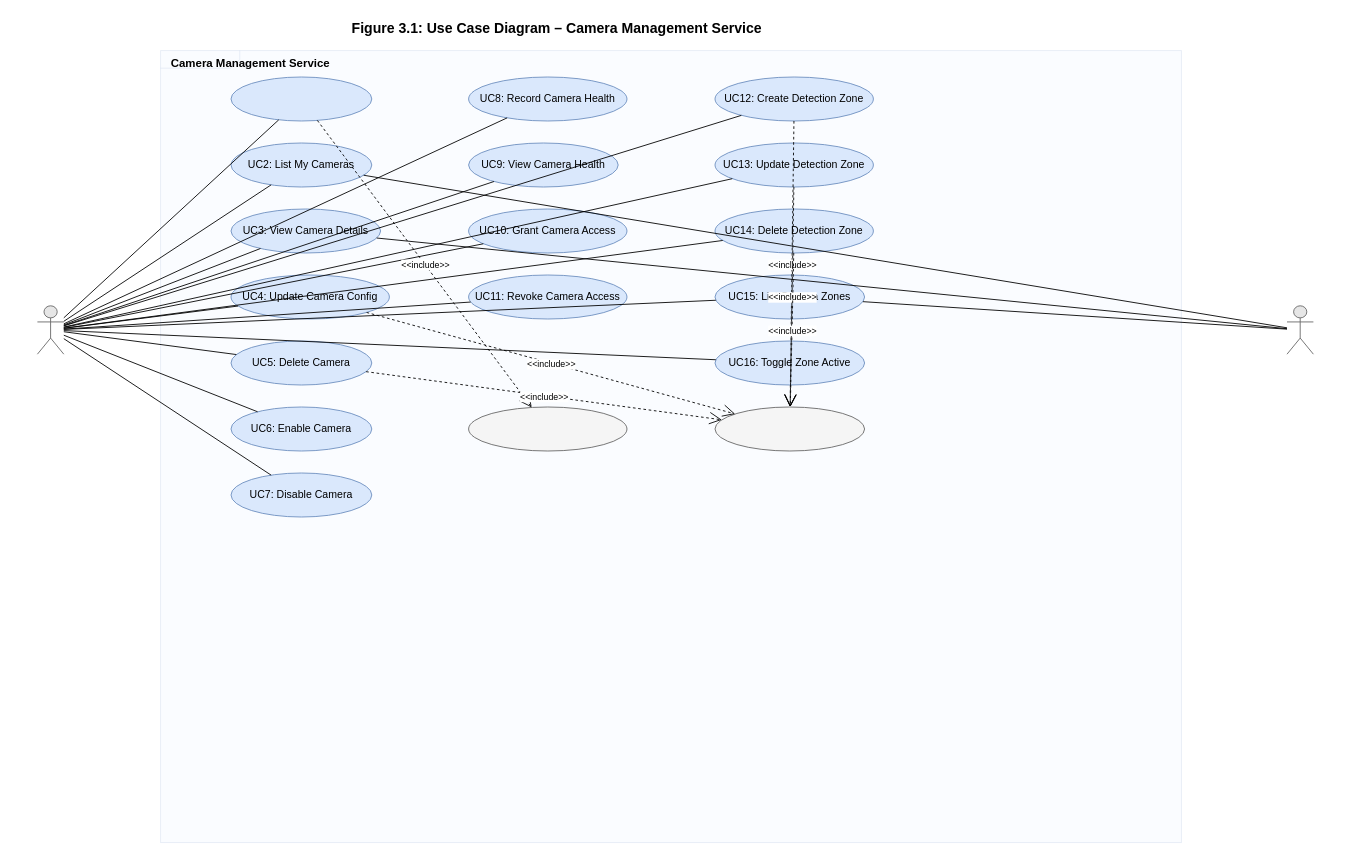
This 1353x858 diagram has some shape labels left out. The shapes that lost their labels are listed below. From the top down, each one's centre as x and y in pixels, then its label:
At pixel 301 98: "UC1: Register Camera".
At pixel 50 329: "Camera Owner".
At pixel 1299 329: "Shared Member".
At pixel 547 428: "UC17: Auto-detect Protocol".
At pixel 789 428: "UC18: Verify Ownership".
